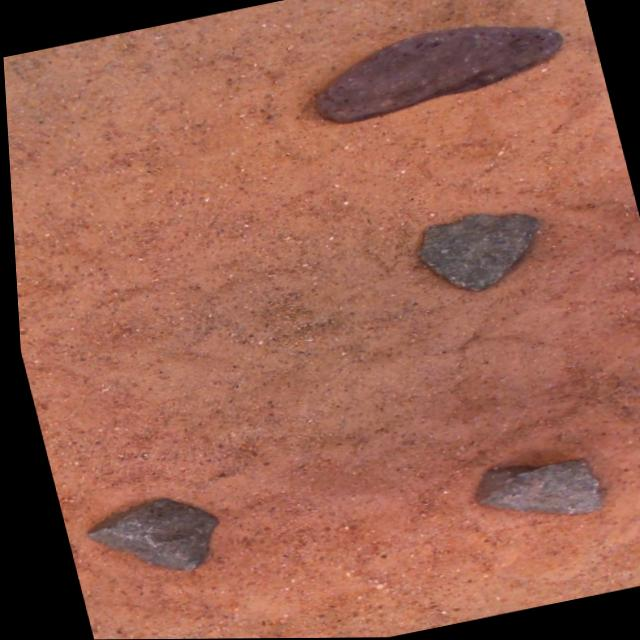rock: (315, 27, 561, 123), (79, 498, 211, 570), (416, 215, 534, 290), (469, 460, 596, 515)
